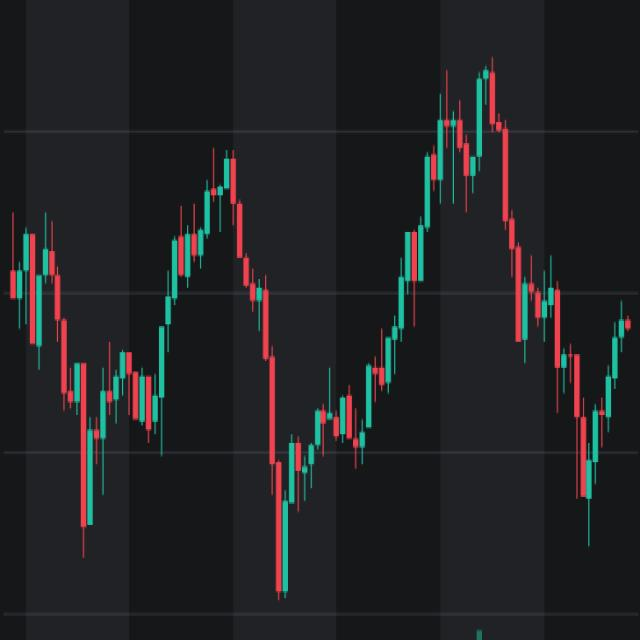Channel-up: (251, 7, 527, 626), (47, 103, 256, 574)
